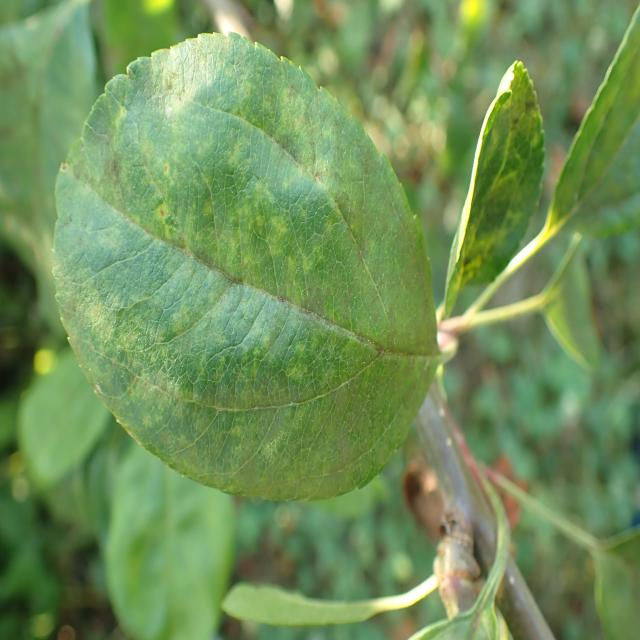scab: (52, 38, 433, 506), (454, 43, 539, 314)
